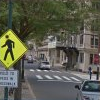crosswalk: (35, 74, 82, 81), (28, 68, 63, 73)
